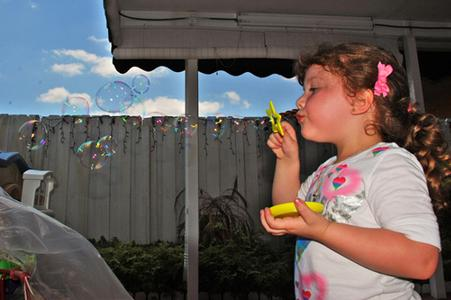person: (255, 41, 441, 299)
